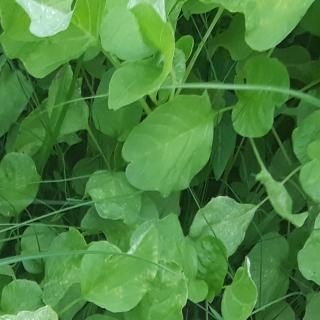karat_putih: (78, 223, 162, 314), (0, 0, 94, 69), (188, 188, 255, 255), (84, 163, 140, 230), (40, 227, 82, 308), (0, 146, 41, 218), (0, 302, 63, 320)
